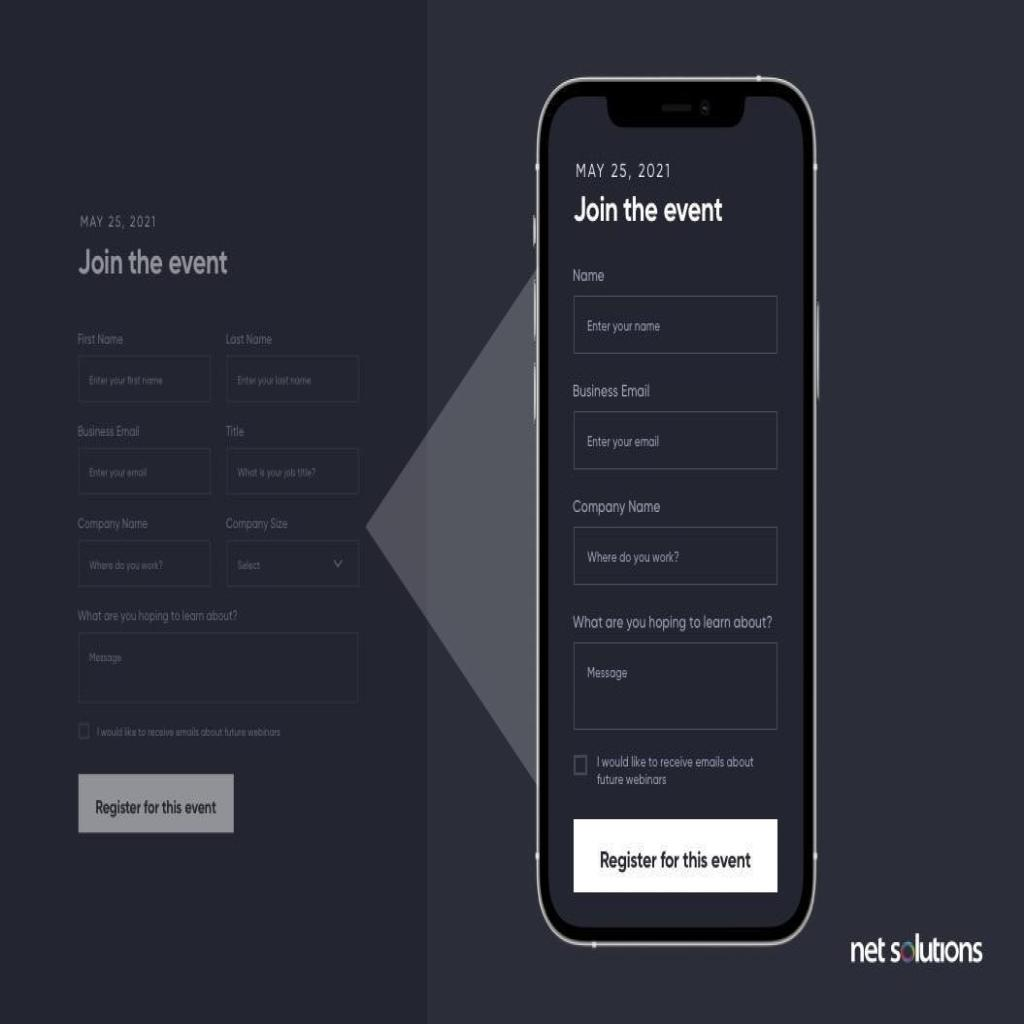button: (572, 818, 778, 895), (78, 772, 235, 832)
checkbox: (573, 754, 588, 778), (78, 721, 91, 740)
dropdown: (225, 538, 360, 590)
input: (572, 525, 778, 590), (573, 408, 779, 473), (572, 293, 778, 357), (225, 352, 361, 406), (76, 538, 212, 590), (225, 446, 361, 498), (76, 446, 212, 498), (76, 353, 212, 405)
label: (593, 752, 757, 791), (573, 193, 723, 228), (76, 244, 229, 278), (78, 604, 240, 626), (572, 613, 774, 630), (95, 726, 283, 740), (576, 161, 672, 183), (571, 499, 663, 518), (570, 382, 653, 401), (77, 516, 151, 534), (76, 424, 146, 440), (77, 214, 155, 228), (225, 516, 289, 532), (224, 330, 273, 346), (75, 332, 122, 347), (572, 268, 604, 285), (224, 423, 245, 440)
